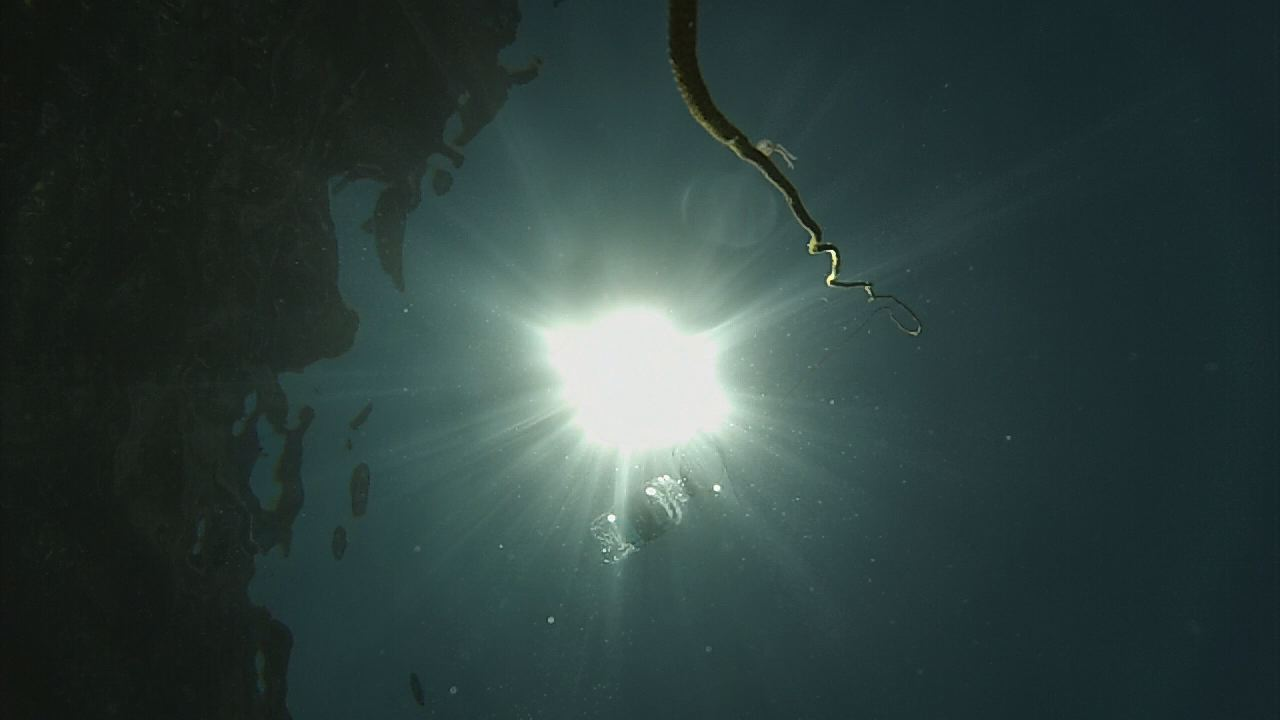pelagia: (751, 137, 804, 168)
